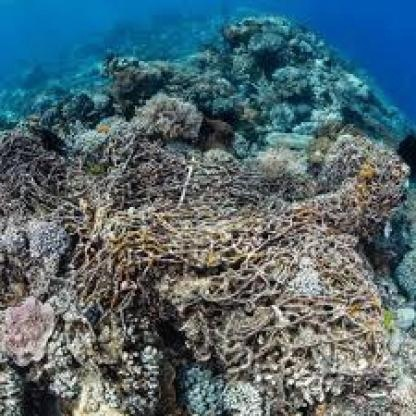net: (24, 140, 403, 376)
